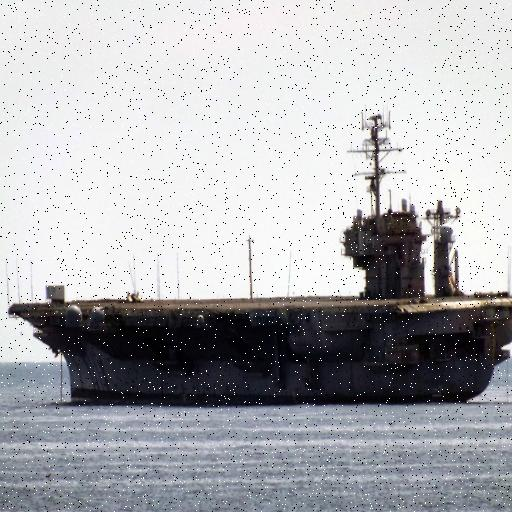Portanaves: (7, 102, 512, 412)
